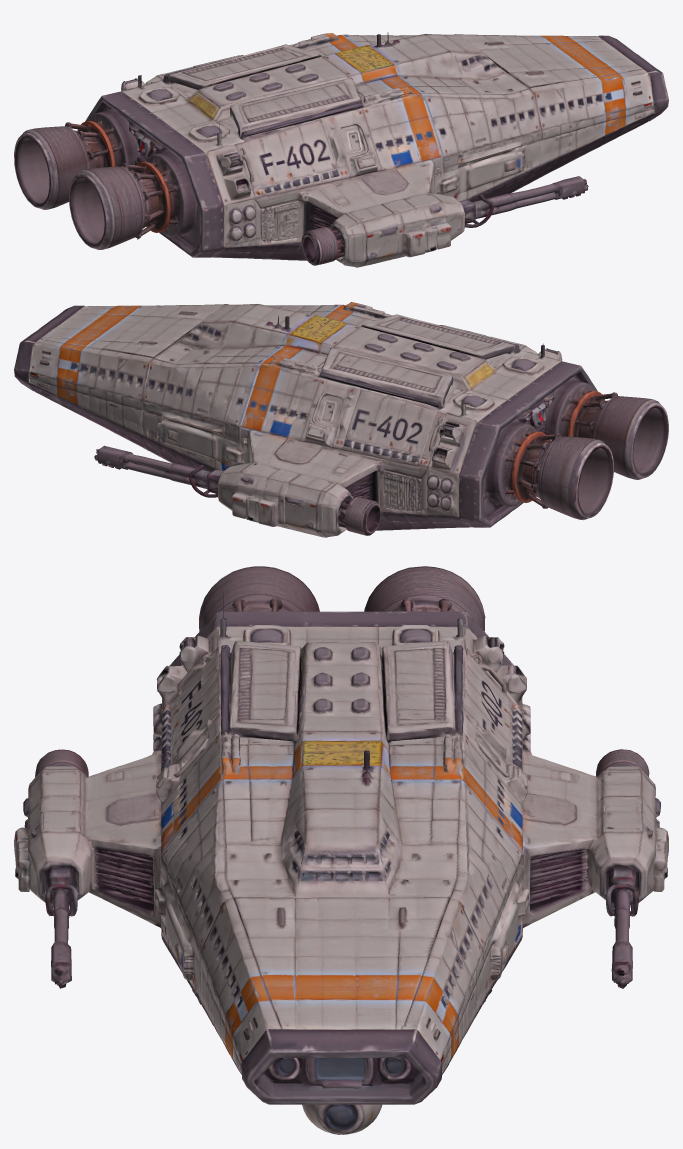
The model's file is fighter.glb.
3 views of the same model, one above another, from view 1: azimuth 30°, elevation 25°; view 2: azimuth 150°, elevation 25°; view 3: azimuth 270°, elevation 25° (orthographic). The views are drawn at different scales.
Parts seen in each view (by area): view 1: tripo_node_42d65507-80f4-4e47-a506-3256f20ac2ea; view 2: tripo_node_42d65507-80f4-4e47-a506-3256f20ac2ea; view 3: tripo_node_42d65507-80f4-4e47-a506-3256f20ac2ea.
Part boxes in pixels (left/top/right/bottom): tripo_node_42d65507-80f4-4e47-a506-3256f20ac2ea: left=14, top=32, right=668, bottom=267; tripo_node_42d65507-80f4-4e47-a506-3256f20ac2ea: left=14, top=302, right=668, bottom=537; tripo_node_42d65507-80f4-4e47-a506-3256f20ac2ea: left=14, top=566, right=668, bottom=1134.
Bounding box in the file's own units: 0.9793 × 0.2862 × 0.6407.
Materials: 1 (1 with a texture image).
